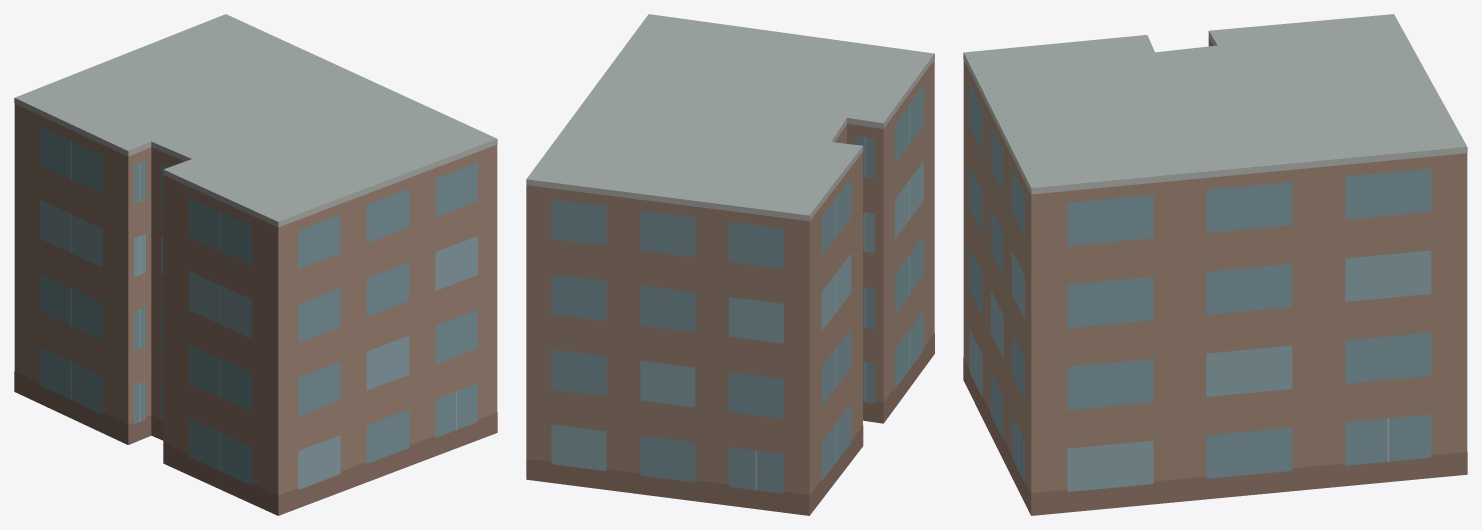
File: survey-upis-32685133.glb
The picture shows the model from 3 angles, left to right: view 1: azimuth 30°, elevation 25°; view 2: azimuth 150°, elevation 25°; view 3: azimuth 270°, elevation 25°; orthographic projection. The views are drawn at different scales.
Visible parts, largest first — view 1: survey-upis-32685133.tmp; view 2: survey-upis-32685133.tmp; view 3: survey-upis-32685133.tmp.
Boxes of the visible parts, x1,y1,x2,y2 form: survey-upis-32685133.tmp: (14,14,497,515); survey-upis-32685133.tmp: (526,14,934,515); survey-upis-32685133.tmp: (963,14,1467,515).
Size of the model in its own units: 14.49 by 12.7 by 17.71.
